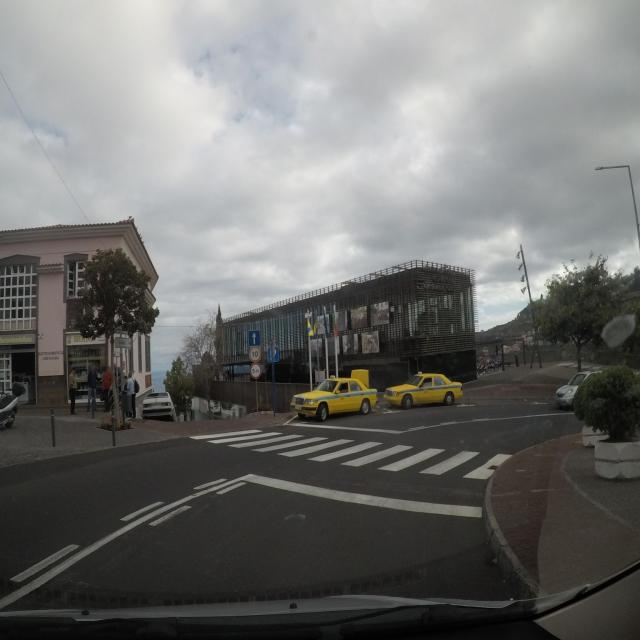car: (290, 376, 378, 422), (383, 372, 465, 410), (555, 370, 594, 411), (140, 390, 176, 421)
